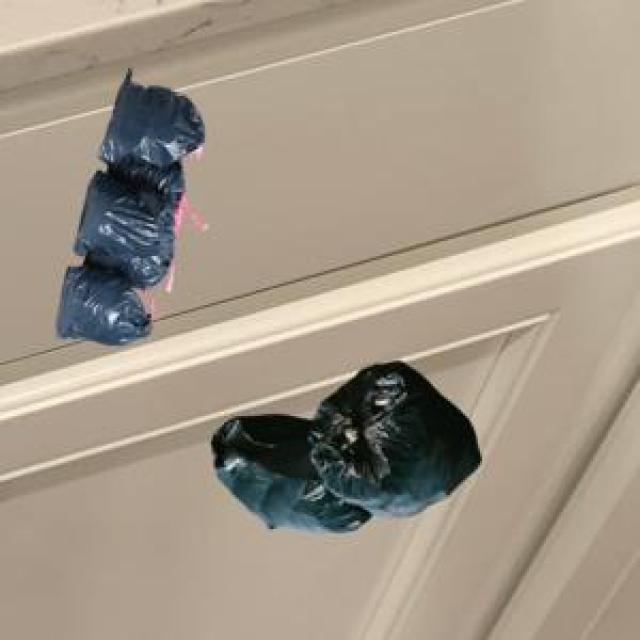waste: (212, 362, 480, 532), (56, 71, 205, 344)
